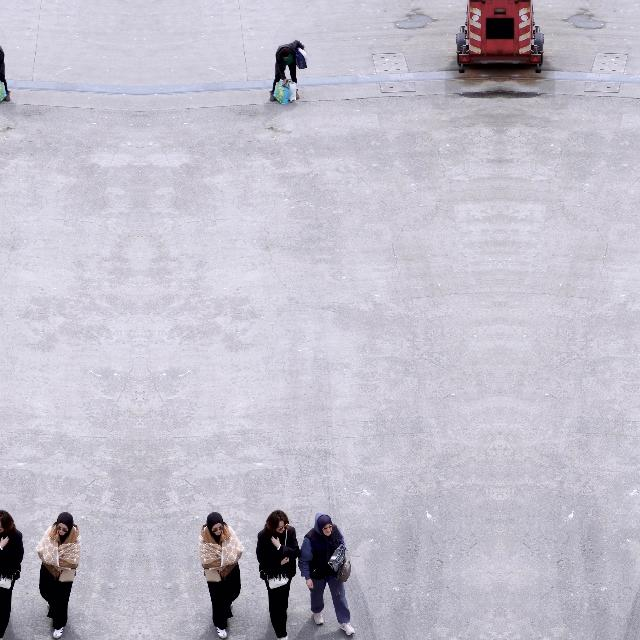person: (297, 512, 355, 638), (198, 512, 245, 640), (255, 509, 300, 640), (36, 512, 82, 640), (0, 509, 24, 640), (269, 40, 307, 102), (0, 39, 11, 102)
